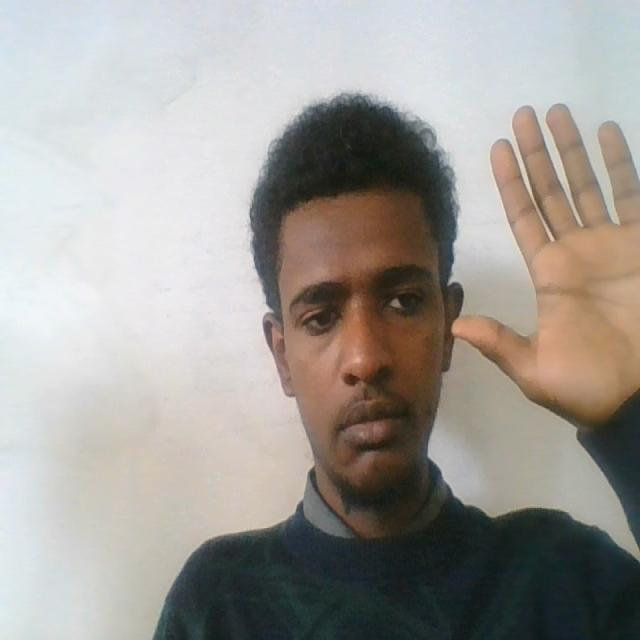hello: (451, 96, 640, 422)
